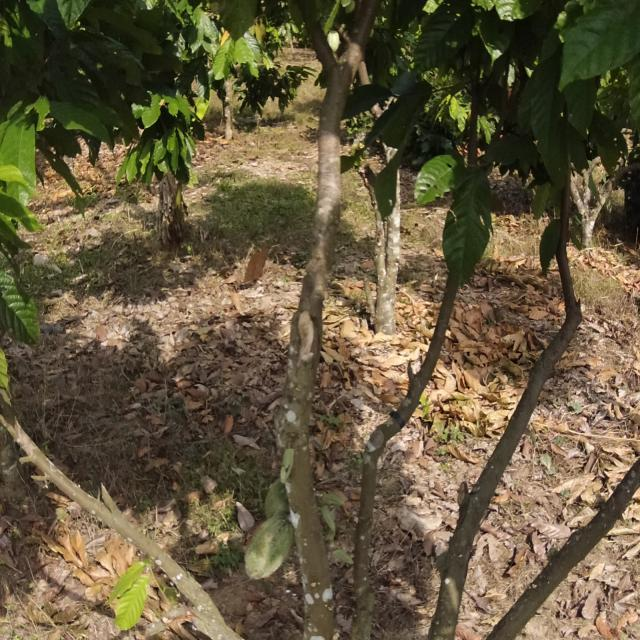Immature: (314, 489, 350, 542)
Mature_Unripe: (243, 508, 297, 600)
